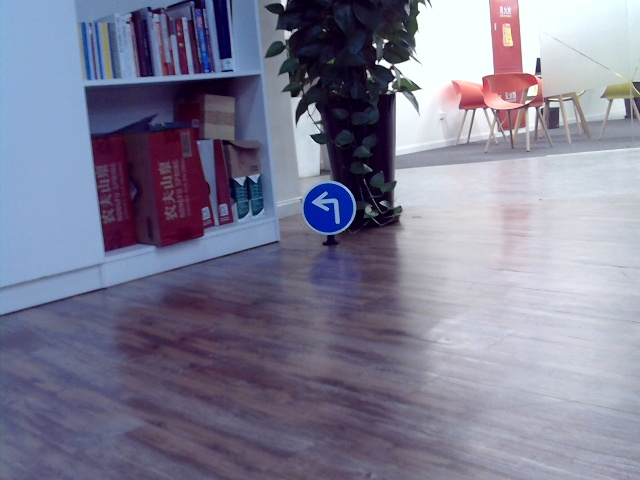turn_left: (312, 189, 343, 223)
